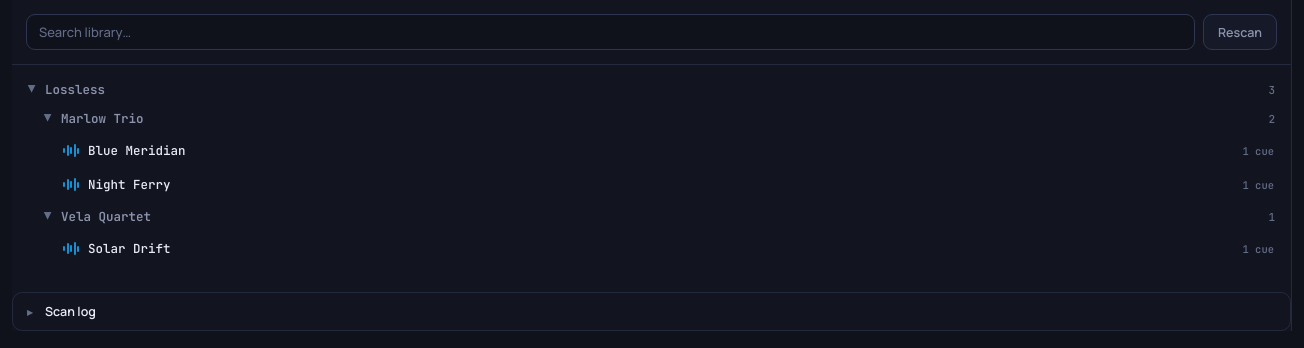
Scenario: Sidebar search › prunes the tree to matching albums and restores it when cleared
The width and height of the screenshot is (1304, 348).
Check: the text "Blue Meridian" is shown, box [88,142,186,159]
Check: the text "Night Ferry" is shown, box [88,176,170,193]
In the field labelled "Search library": (610, 32) [26,14,1195,50], type "ferry"
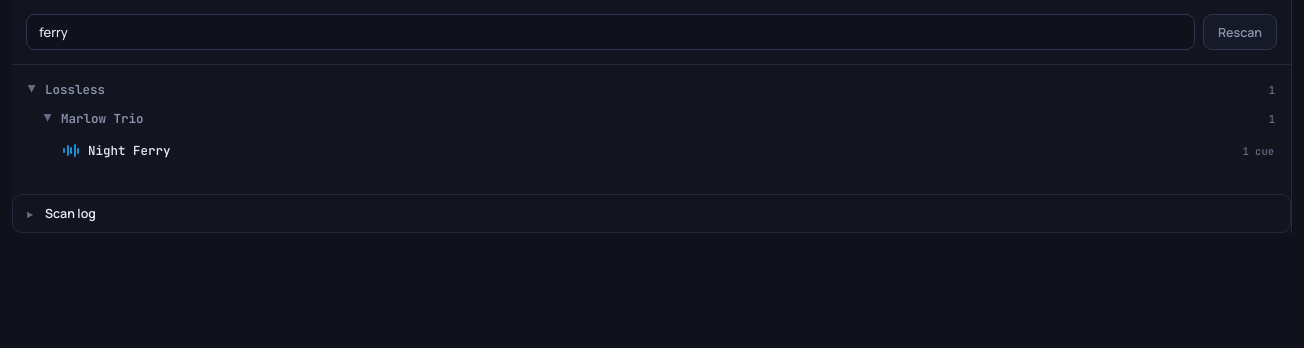
Check: the link "Blue Meridian" is gone
Check: the link "Solar Drift" is gone
Check: the button "Vela Quartet" is gone
Clear the field named "Search library": (610, 32) [26,14,1195,50]
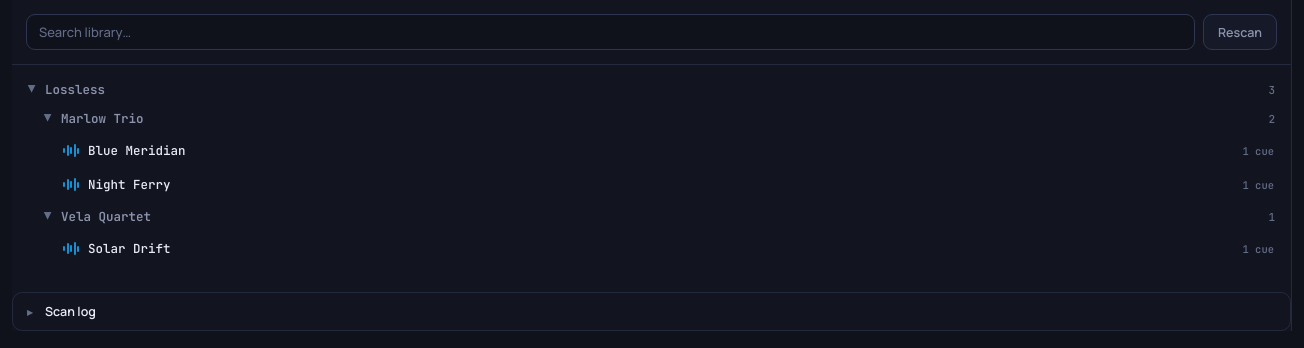
Check: the text "Blue Meridian" is shown, box [88,142,186,159]
Check: the text "Solar Drift" is shown, box [88,240,170,257]
